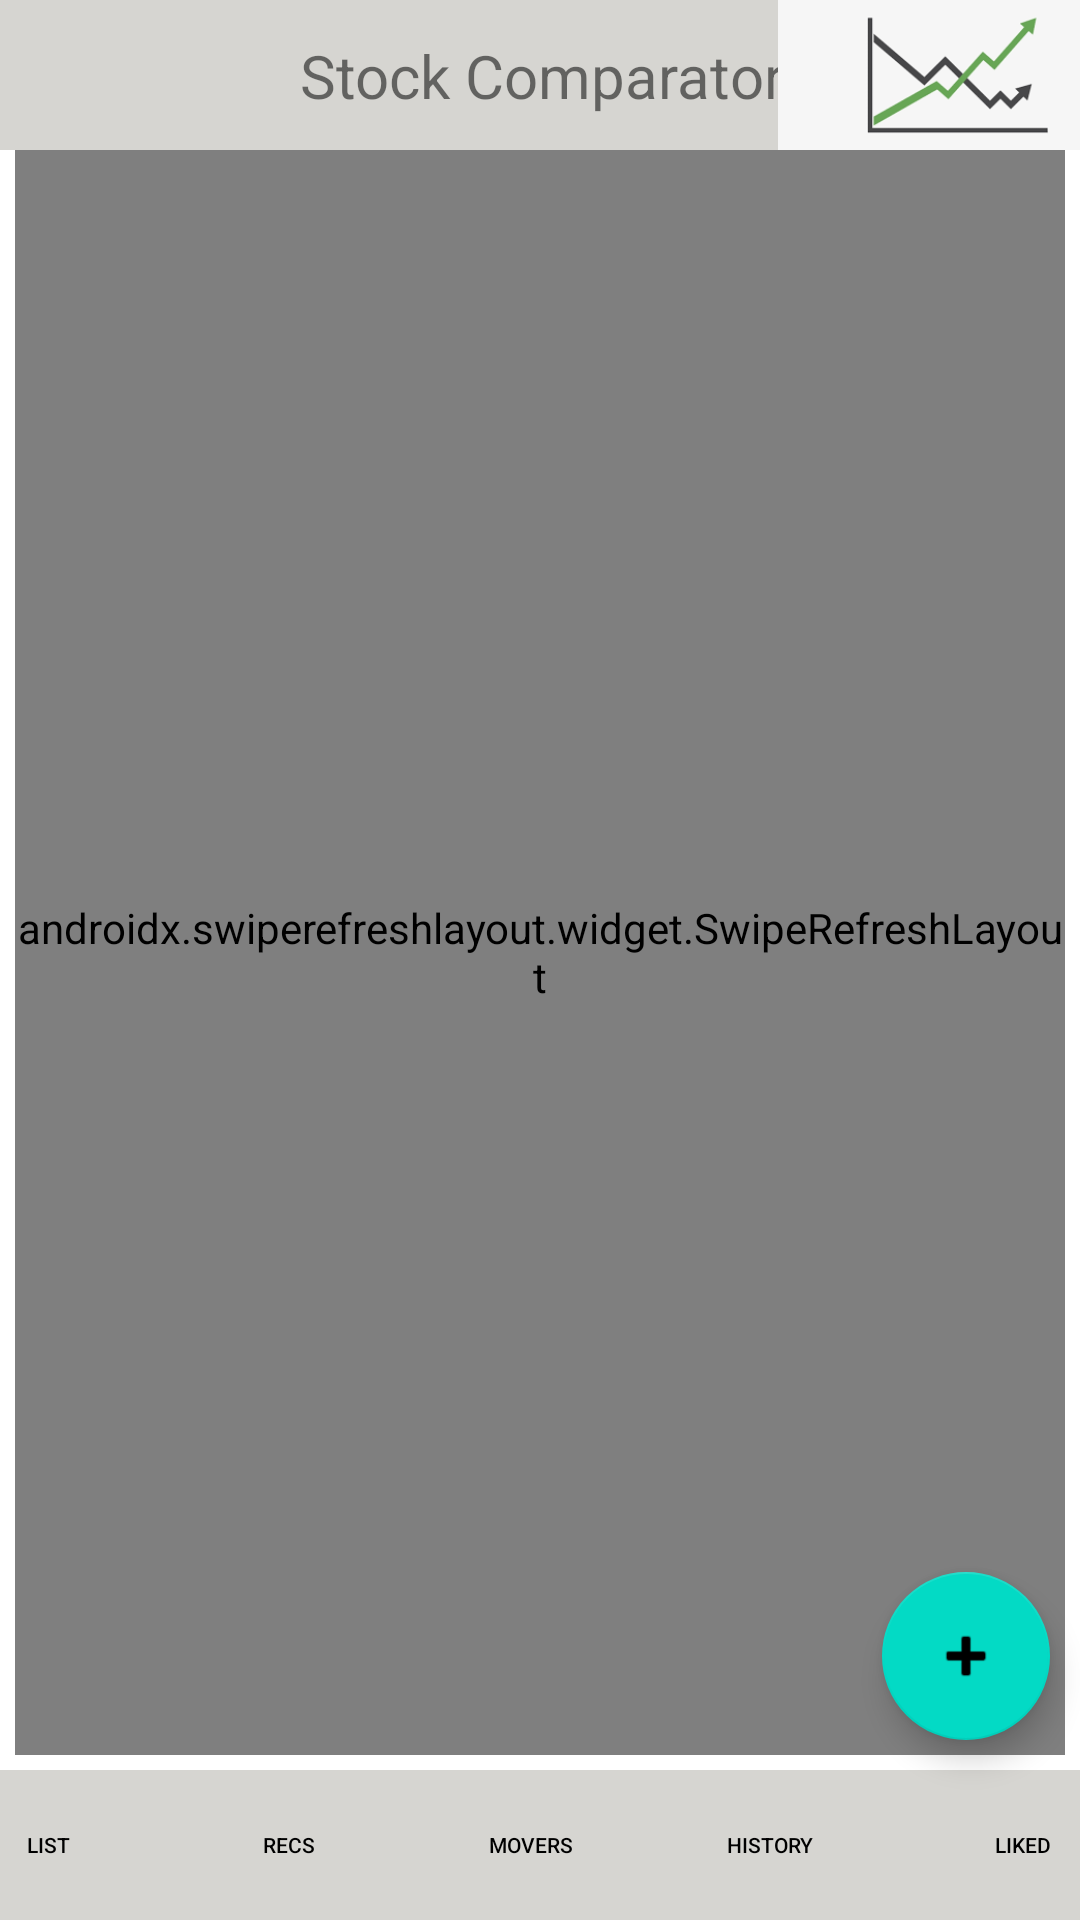

Where to tap for icons on this 1080px x 1920px app screen, as (x,y):
add: (966,1656)
